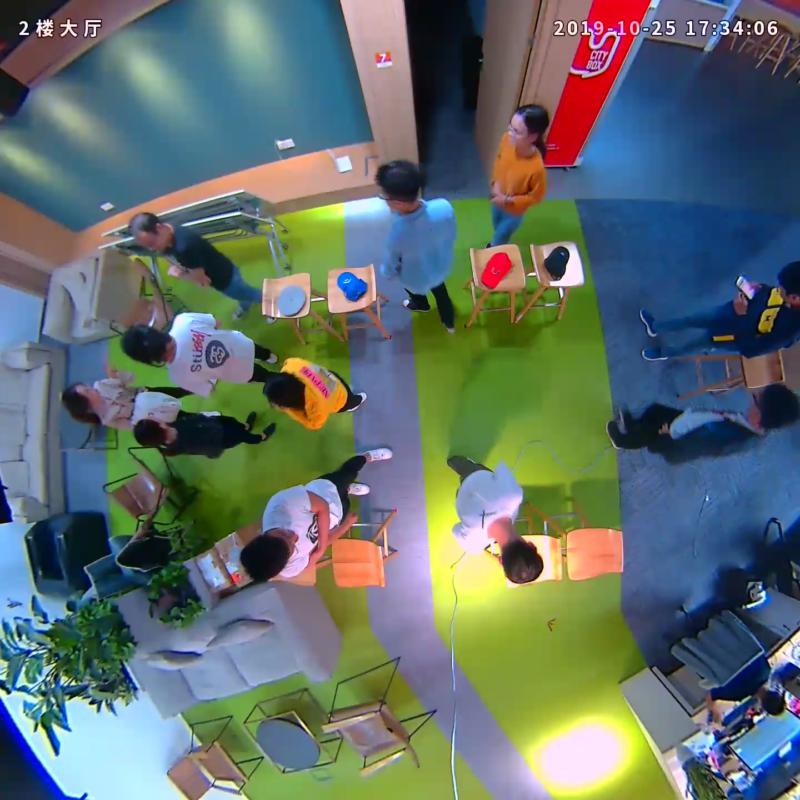head: (239, 526, 297, 581), (748, 383, 800, 432), (376, 158, 423, 210), (497, 538, 544, 585), (506, 103, 551, 148), (121, 322, 165, 364), (128, 212, 172, 252), (261, 373, 298, 410), (61, 381, 101, 407), (133, 419, 170, 447)
